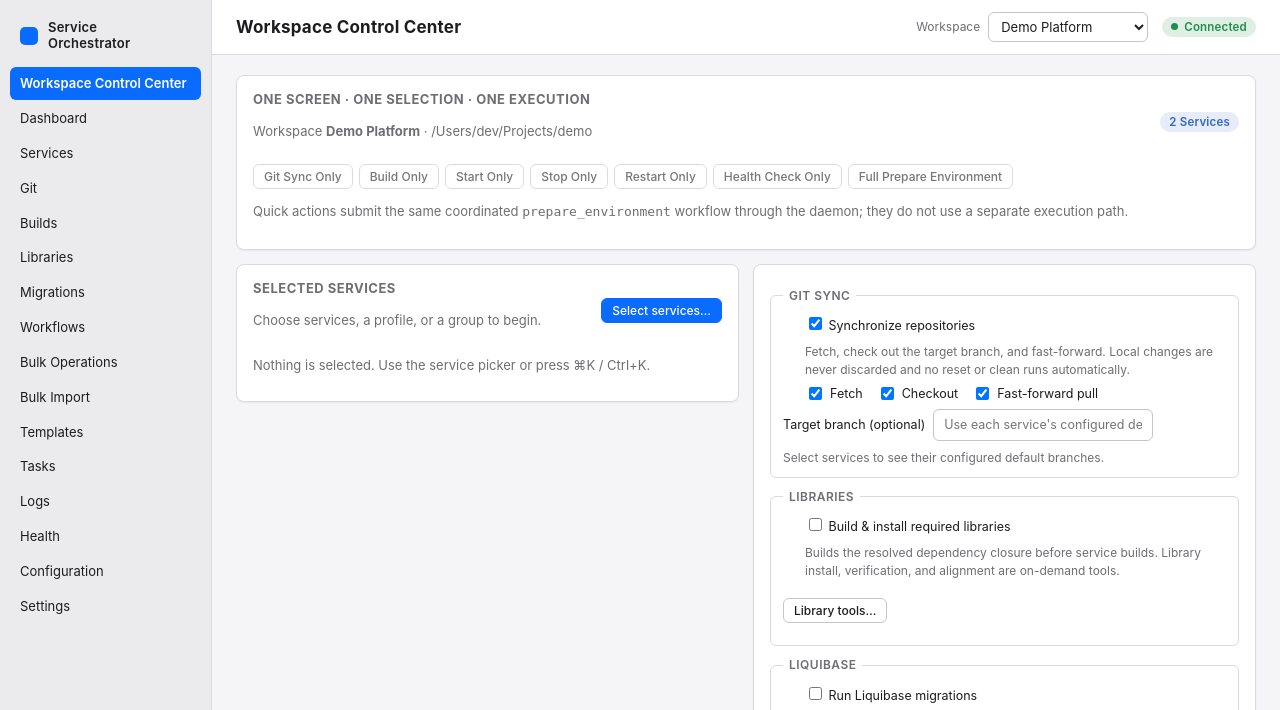
service selection › selects services explicitly and never the whole workspace implicitly
This screenshot has width=1280, height=710.
Click the button "Workflows" at (106, 328), box [10,311,201,344]
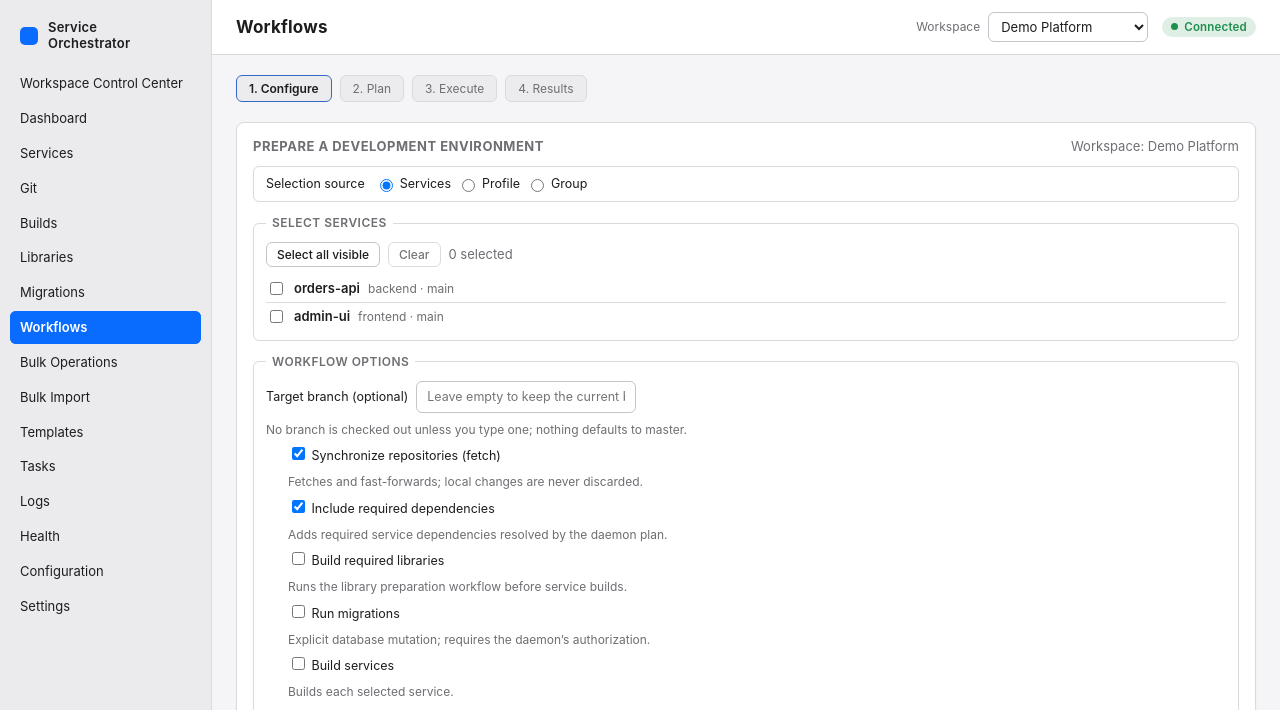
Check: the heading "Prepare a development environment" is shown, box [253,137,544,156]
Check: the checkbox named "Select orders-api" is not checked
Check: the checkbox named "Select admin-ui" is not checked, box [270,310,283,323]
Click the checkbox named "Select orders-api" at (276, 289), box [270,282,283,295]
(page scrolled)
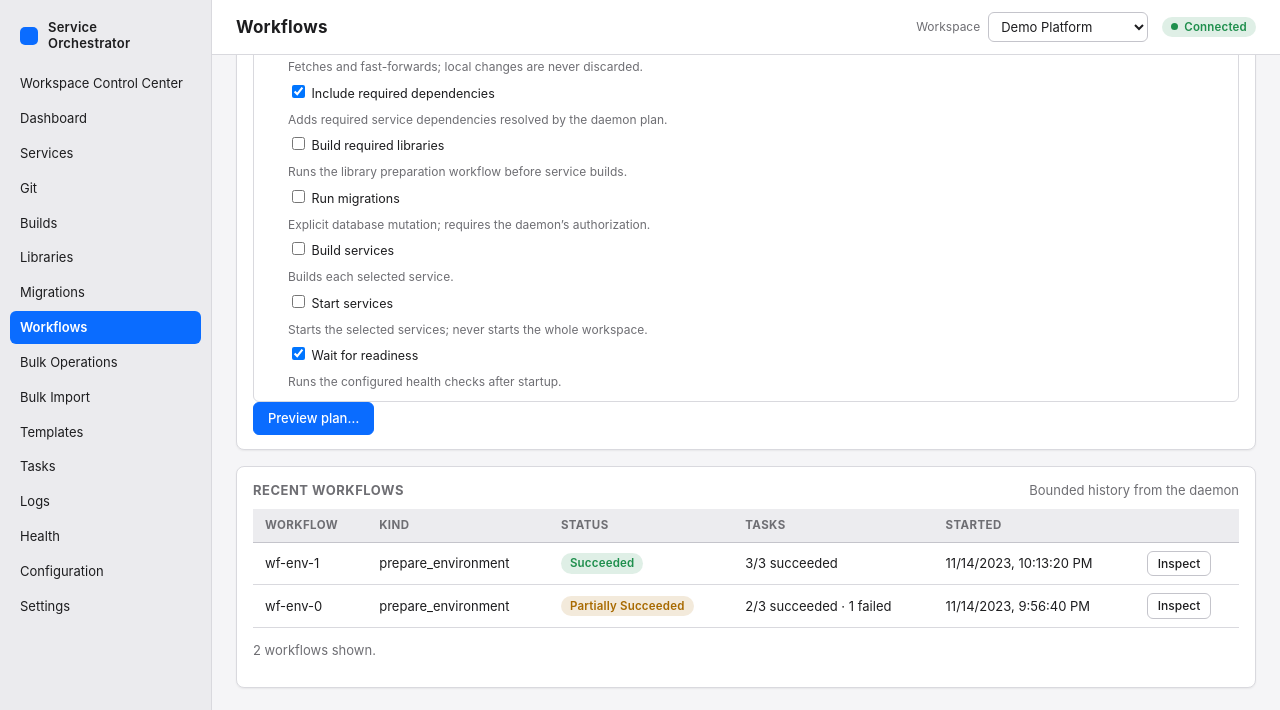
Check: the button "Preview plan…" is enabled, box [253,402,374,434]
